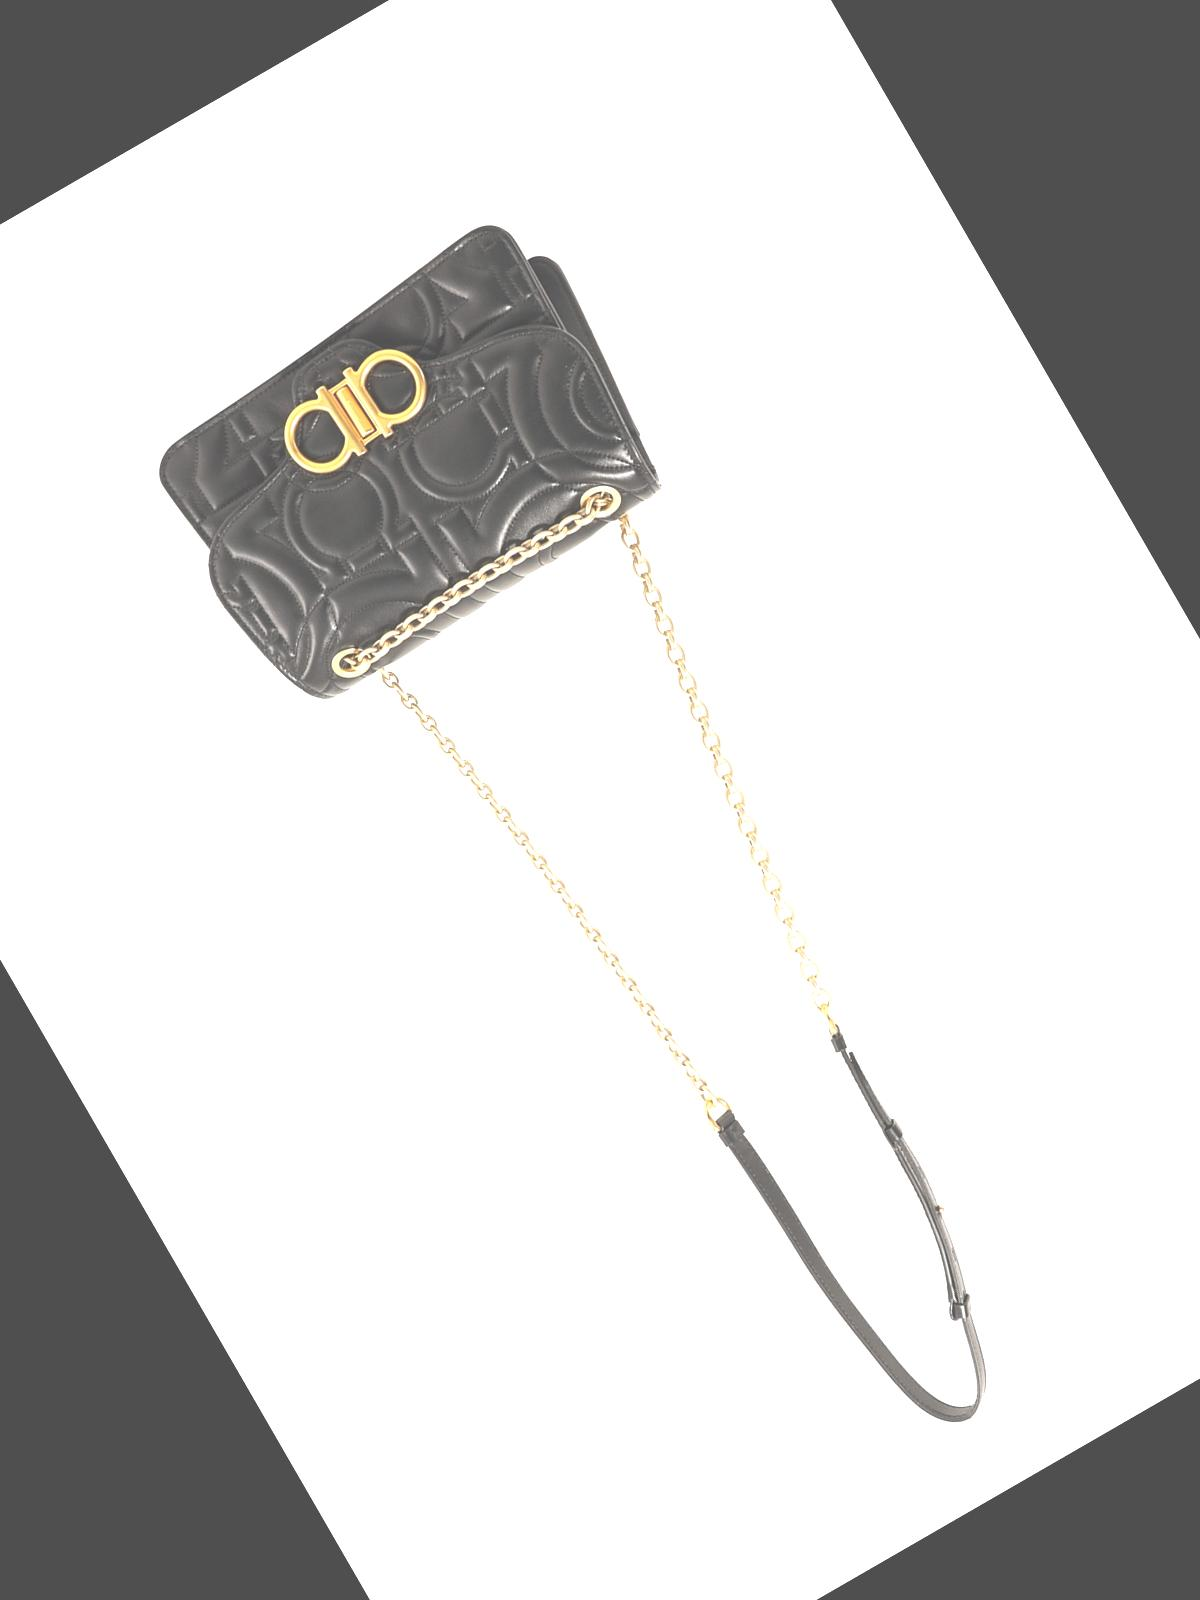FERRAGAMO: (232, 301, 476, 522)
